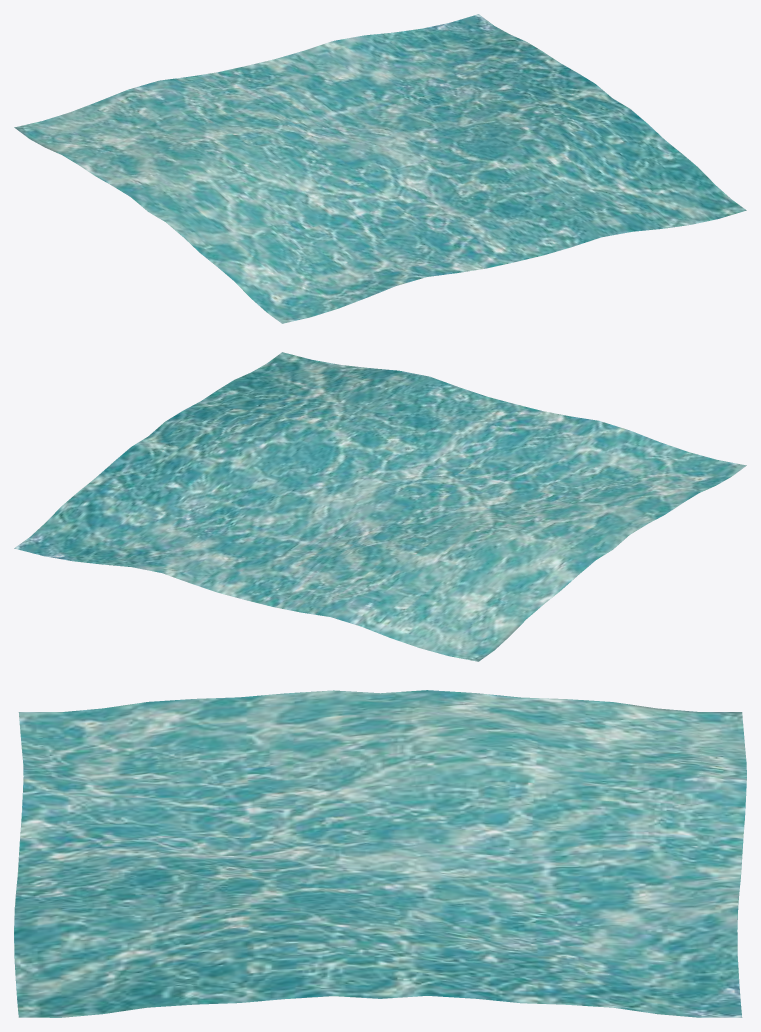
Rendered from water_000193.obj.
3 renders of one model, top to bottom at view 1: azimuth 30°, elevation 25°; view 2: azimuth 150°, elevation 25°; view 3: azimuth 270°, elevation 25°, orthographic. The views are drawn at different scales.
Parts seen in each view (by area): view 1: Plan.003_Plan.001; view 2: Plan.003_Plan.001; view 3: Plan.003_Plan.001.
Boxes of the visible parts, box(x1,y1,x2,y2) form: Plan.003_Plan.001: box(14, 14, 746, 323); Plan.003_Plan.001: box(14, 352, 746, 661); Plan.003_Plan.001: box(14, 690, 746, 1017).
Bounding box in the file's own units: 60404 × 2783 × 61130.
1 material, 1 textured.
